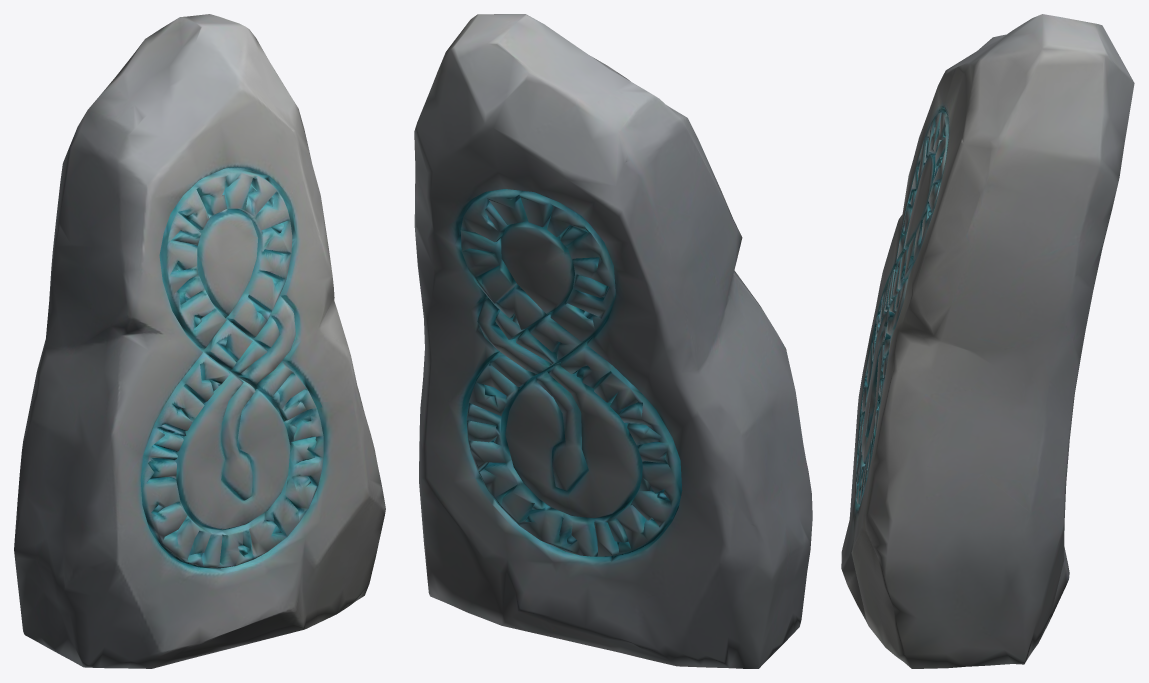
File: rune-stone.glb
3 renders of one model, left to right at view 1: azimuth 30°, elevation 25°; view 2: azimuth 150°, elevation 25°; view 3: azimuth 270°, elevation 25°, orthographic. The views are drawn at different scales.
Parts seen in each view (by area): view 1: tripo_node_acbd168f-ce49-4b64-97dd-7595c0d71ed6; view 2: tripo_node_acbd168f-ce49-4b64-97dd-7595c0d71ed6; view 3: tripo_node_acbd168f-ce49-4b64-97dd-7595c0d71ed6.
Part boxes in pixels (x1,y1,x2,y2): tripo_node_acbd168f-ce49-4b64-97dd-7595c0d71ed6: (14,14,385,668); tripo_node_acbd168f-ce49-4b64-97dd-7595c0d71ed6: (414,14,812,668); tripo_node_acbd168f-ce49-4b64-97dd-7595c0d71ed6: (841,14,1134,668).
Size of the model in its own units: 0.6008 by 1 by 0.4422.
Materials: 1 (1 with a texture image).
